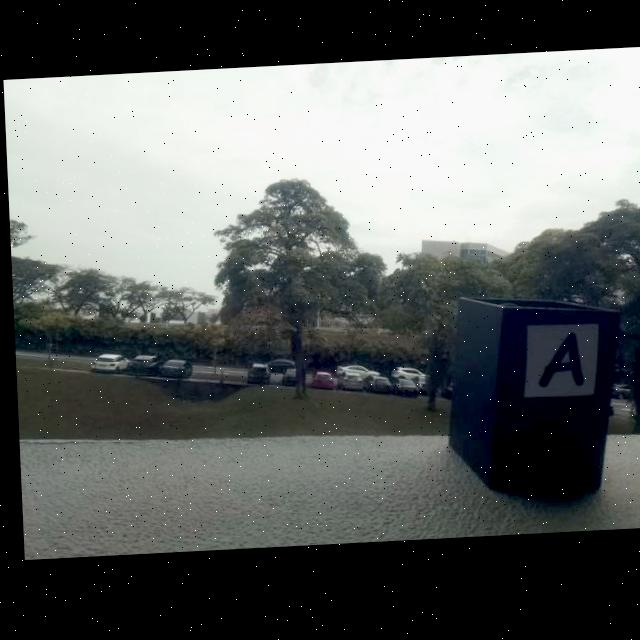A: (534, 338, 581, 395)
